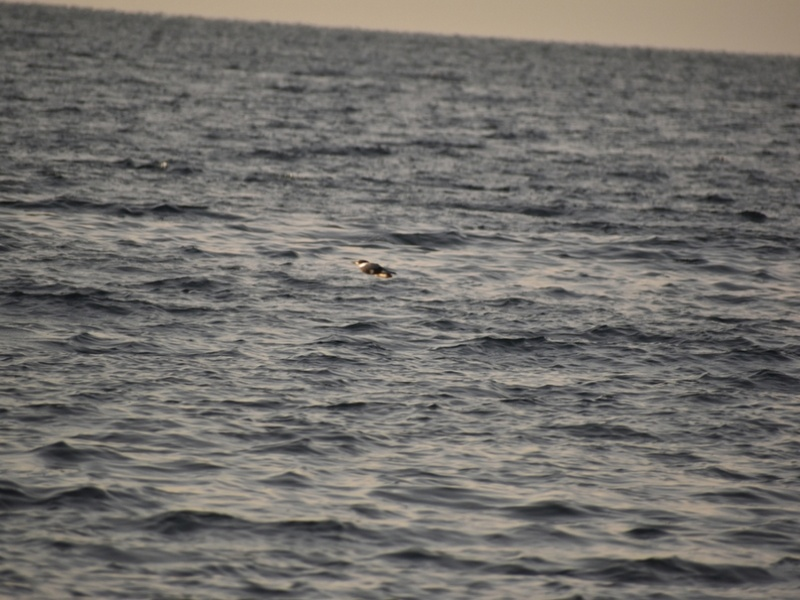kingfisher: (348, 254, 397, 281)
